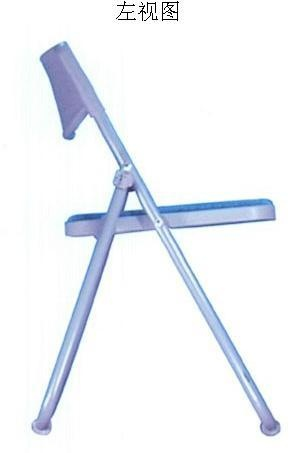obstacle: (32, 42, 279, 435)
